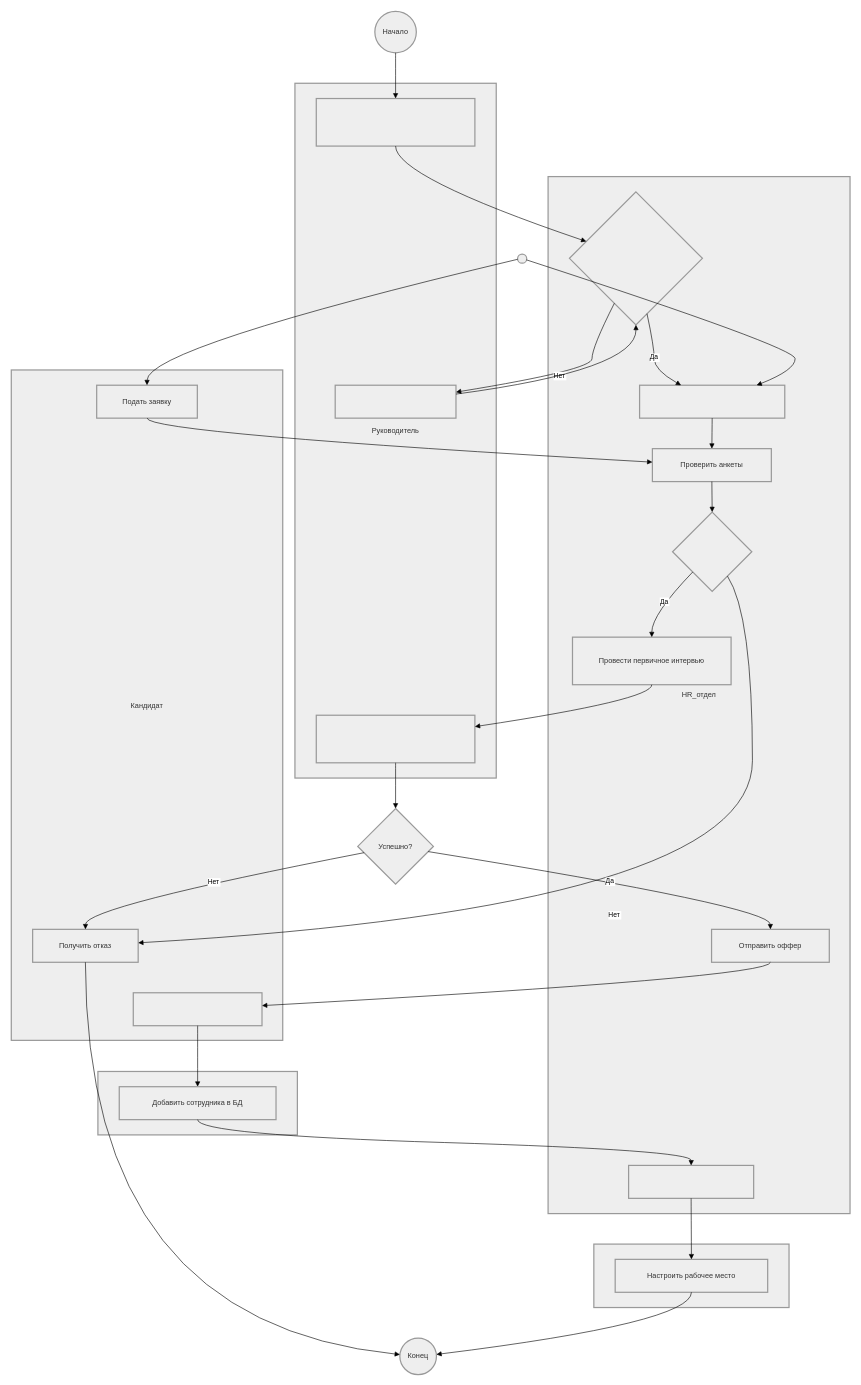
This 861x1385 diagram has some shape labels left out. Here are the shapes that lost their labels. From the top down, the centre of each, then its label:
At (x=395, y=122): "Создать заявку на вакансию".
At (x=636, y=258): "Заявка соответствует?".
At (x=395, y=401): "Доработать заявку".
At (x=712, y=401): "Опубликовать вакансию".
At (x=712, y=551): "Подходит?".
At (x=395, y=738): "Провести техническое собеседование".
At (x=197, y=1009): "Подтвердить оффер".
At (x=691, y=1181): "Уведомить IT-отдел".
